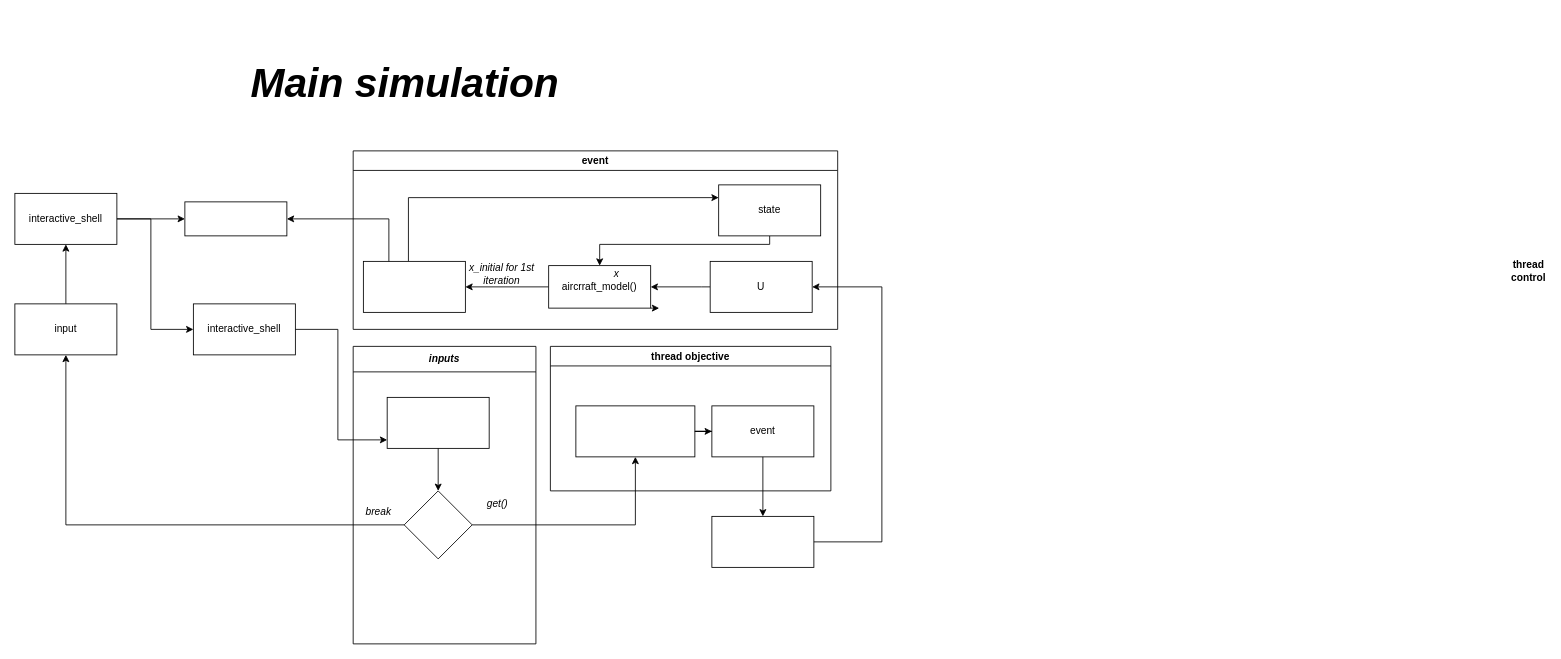
Some shapes in this 1561 by 659 pixel diagram are drawn without their labels. The centre of each missing label's shape, as x and y in pixels:
"command" goes at [437,422].
"execute_event" goes at [762,541].
"plot()" goes at [235,218].
"simulation()" goes at [414,286].
"update_control_values()" goes at [635,431].
